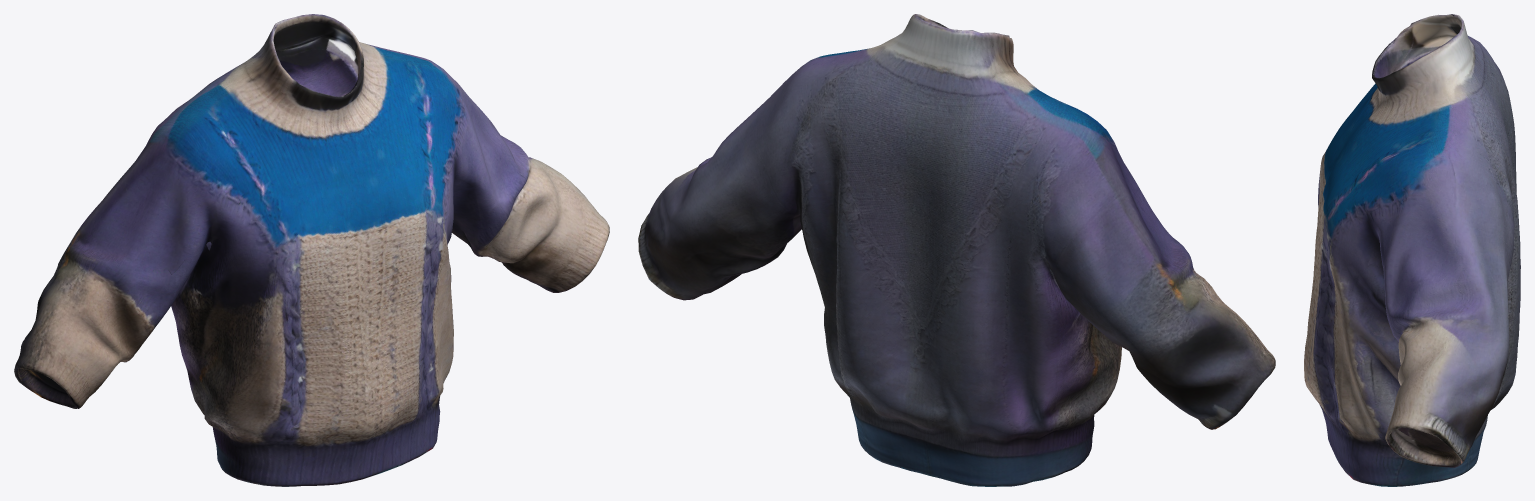
Rendered from product04.glb.
3 renders of one model, left to right at view 1: azimuth 30°, elevation 25°; view 2: azimuth 150°, elevation 25°; view 3: azimuth 270°, elevation 25°, orthographic. The views are drawn at different scales.
Size of the model in its own units: 2 by 1.37 by 0.6424.
Materials: 1 (1 with a texture image).
